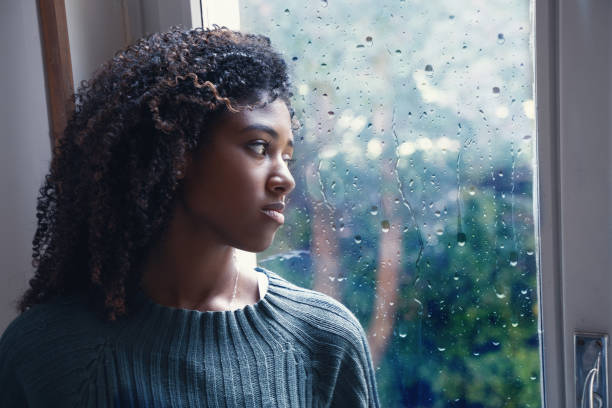without mask: (194, 89, 308, 257)
